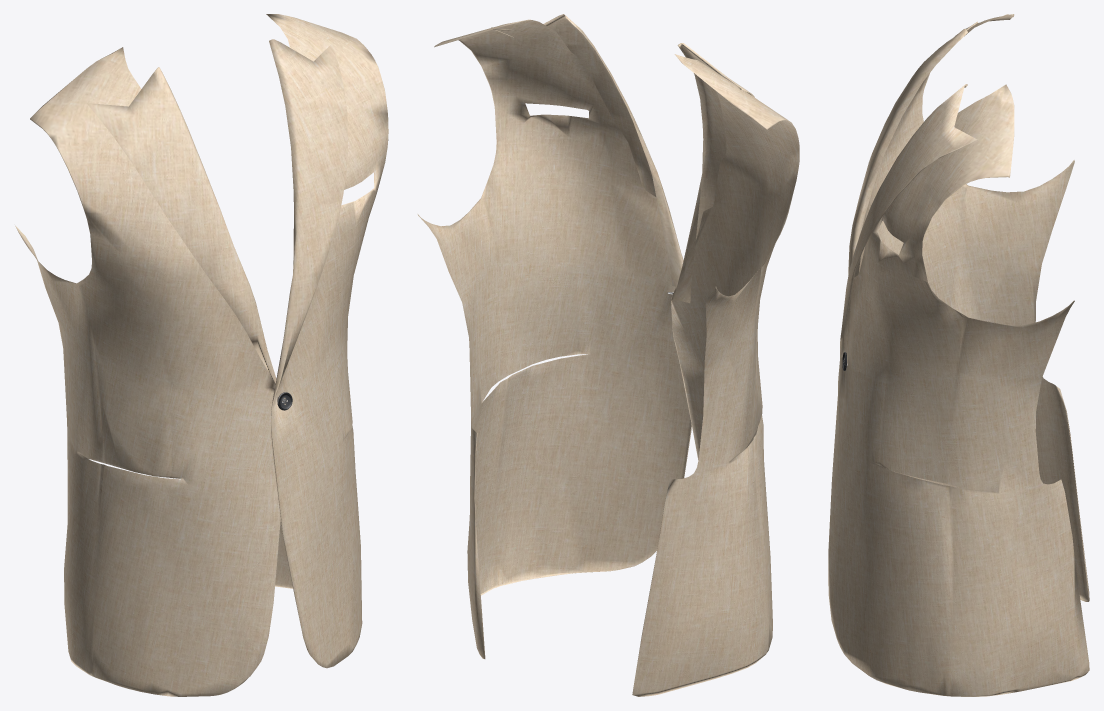
File: peaksinglebutton_new.glb
3 views of the same model, side by side, from view 1: azimuth 30°, elevation 25°; view 2: azimuth 150°, elevation 25°; view 3: azimuth 270°, elevation 25° (orthographic). The views are drawn at different scales.
Parts seen in each view (by area): view 1: peak_single_button1; view 2: peak_single_button1; view 3: peak_single_button1.
Boxes of the visible parts, x1,y1,x2,y2 form: peak_single_button1: (15, 14, 388, 696); peak_single_button1: (417, 14, 799, 696); peak_single_button1: (828, 14, 1089, 696).
Bounding box in the file's own units: 0.0585 × 0.1024 × 0.0411.
Materials: 4 (3 with a texture image).
